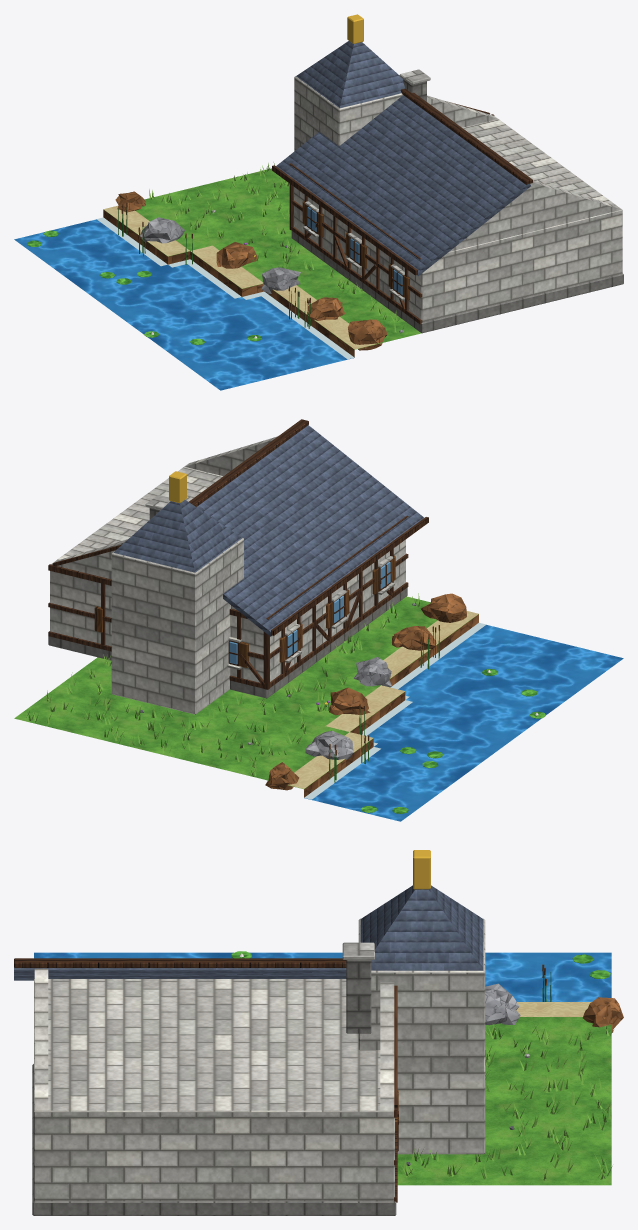
File: chunk_0_9.glb
3 renders of one model, top to bottom at view 1: azimuth 30°, elevation 25°; view 2: azimuth 150°, elevation 25°; view 3: azimuth 270°, elevation 25°, orthographic. The views are drawn at different scales.
Visible parts, largest first — view 1: chunk_0_9; view 2: chunk_0_9; view 3: chunk_0_9.
Boxes of the visible parts, x1,y1,x2,y2 form: chunk_0_9: [14, 14, 623, 390]; chunk_0_9: [14, 419, 623, 821]; chunk_0_9: [14, 850, 623, 1215].
Size of the model in its own units: 18.08 by 8.9 by 16.89.
24 materials, 16 textured.
